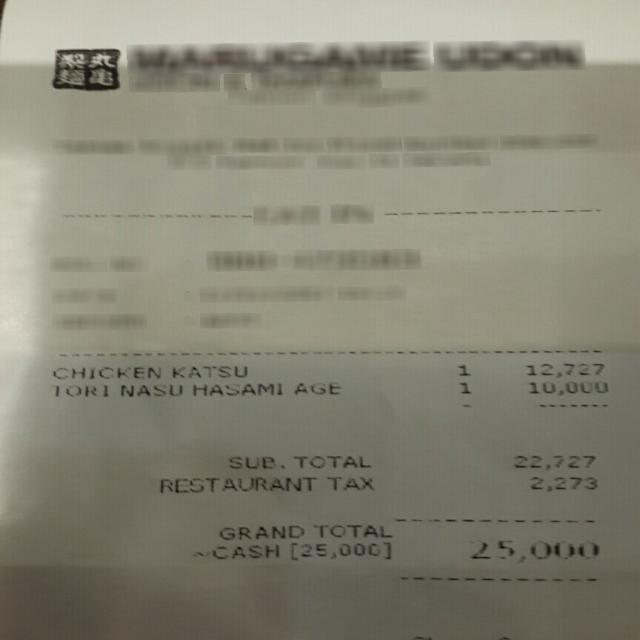kertas: (3, 0, 638, 640)
